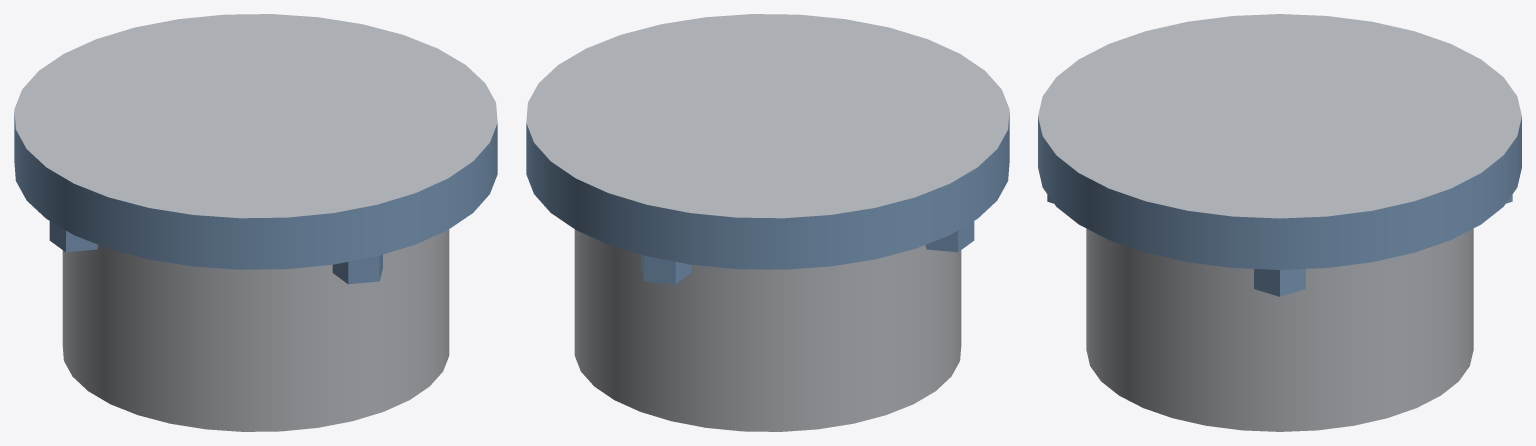
3 views of the same model, side by side, from view 1: azimuth 30°, elevation 25°; view 2: azimuth 150°, elevation 25°; view 3: azimuth 270°, elevation 25° (orthographic).
Visible parts, largest first — view 1: ratchet_4-80; view 2: ratchet_4-80; view 3: ratchet_4-80.
Boxes of the visible parts, <box> form: ratchet_4-80: <box>14,14,497,431</box>; ratchet_4-80: <box>526,14,1009,431</box>; ratchet_4-80: <box>1038,14,1521,431</box>.
Size of the model in its own units: 15 by 8 by 15.
